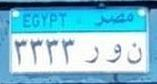3: (61, 37, 77, 65), (30, 38, 43, 64), (14, 39, 27, 65), (46, 39, 58, 63)
noon: (126, 41, 143, 64)
raa: (85, 45, 100, 65)
waw: (106, 44, 123, 64)
